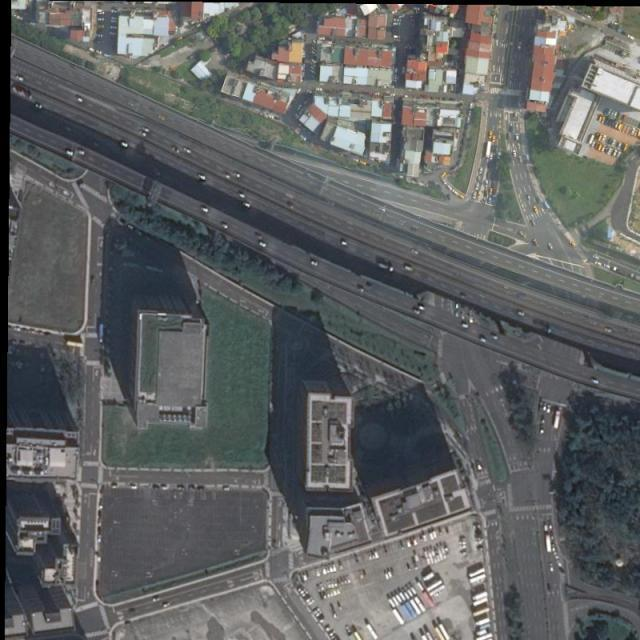vehicle: (413, 595, 426, 613), (405, 602, 418, 618), (430, 584, 446, 597), (410, 598, 422, 615), (438, 624, 450, 640), (366, 624, 378, 640), (427, 580, 443, 592), (422, 591, 434, 607), (393, 608, 404, 625), (402, 604, 413, 620), (469, 568, 486, 578), (613, 267, 630, 277), (470, 574, 486, 584), (474, 608, 490, 618), (378, 262, 394, 272), (473, 598, 489, 607), (472, 592, 487, 601), (554, 410, 561, 429), (435, 627, 445, 640), (476, 633, 493, 640), (477, 618, 491, 626), (546, 535, 552, 553), (478, 622, 491, 630), (486, 141, 492, 158), (99, 324, 104, 344), (171, 145, 181, 154), (423, 573, 434, 581), (477, 628, 487, 636), (199, 206, 209, 214), (158, 114, 168, 122), (182, 146, 192, 154), (354, 631, 362, 640), (402, 590, 410, 599), (410, 248, 419, 256), (220, 222, 229, 230), (310, 259, 319, 267), (630, 274, 640, 281), (286, 202, 294, 210), (142, 126, 150, 134), (426, 631, 433, 640), (405, 265, 414, 272), (258, 241, 267, 248), (242, 202, 251, 209), (138, 130, 147, 137), (589, 135, 595, 145), (542, 403, 548, 413), (418, 582, 425, 590), (407, 588, 414, 596), (399, 592, 406, 600), (395, 594, 402, 602), (356, 286, 364, 293), (238, 192, 246, 199), (233, 171, 241, 178), (366, 282, 374, 289), (418, 304, 426, 311), (16, 75, 24, 82), (610, 139, 617, 147), (520, 230, 527, 238), (392, 597, 398, 606), (476, 461, 482, 470), (120, 142, 129, 148), (66, 150, 75, 156), (491, 334, 498, 341), (439, 546, 446, 553), (379, 206, 386, 213), (410, 586, 416, 594), (389, 599, 395, 607), (198, 174, 206, 180), (479, 337, 487, 343), (462, 322, 470, 328), (36, 104, 44, 110), (423, 550, 429, 558), (387, 570, 393, 578), (314, 568, 320, 576), (399, 542, 405, 550), (548, 242, 554, 250), (627, 35, 635, 41), (591, 379, 600, 384), (341, 240, 348, 246), (255, 233, 262, 239), (302, 592, 309, 598), (331, 634, 338, 640), (592, 141, 598, 148), (598, 144, 604, 151), (608, 148, 614, 155), (598, 134, 604, 141), (631, 128, 637, 135), (531, 219, 537, 226), (413, 309, 421, 314), (337, 579, 342, 587), (326, 582, 331, 590), (429, 532, 434, 540), (422, 534, 427, 542), (326, 590, 331, 598), (354, 556, 359, 564), (338, 562, 343, 570), (384, 546, 389, 554), (624, 144, 629, 152), (618, 142, 623, 150), (618, 122, 623, 130), (518, 311, 526, 316), (421, 634, 427, 640), (470, 314, 474, 323), (333, 563, 337, 572), (298, 586, 304, 592), (300, 589, 306, 595), (319, 618, 325, 624), (318, 615, 324, 621), (314, 608, 320, 614), (308, 600, 314, 606), (550, 563, 554, 572), (442, 552, 447, 559), (223, 174, 230, 179), (461, 313, 466, 320), (78, 150, 85, 155), (475, 183, 480, 190), (359, 161, 366, 166), (310, 62, 317, 67), (130, 485, 137, 490), (336, 587, 341, 594), (340, 578, 345, 585), (438, 530, 443, 537), (433, 531, 438, 538), (333, 589, 338, 596), (426, 558, 431, 565), (385, 573, 390, 580), (413, 538, 418, 545), (374, 551, 379, 558), (303, 574, 308, 581), (163, 603, 170, 608), (326, 625, 331, 632), (613, 150, 618, 157), (602, 135, 607, 142), (534, 239, 539, 246), (605, 328, 612, 333), (479, 166, 483, 174), (322, 590, 326, 598), (430, 556, 434, 564), (438, 546, 442, 554), (410, 538, 414, 546), (406, 539, 410, 547), (322, 566, 326, 574), (98, 535, 102, 543), (98, 518, 102, 526), (534, 206, 538, 214), (599, 114, 603, 122), (547, 406, 551, 414), (460, 545, 466, 550), (472, 192, 477, 198), (311, 50, 317, 55), (329, 590, 334, 596), (333, 580, 338, 586), (320, 584, 325, 590), (317, 586, 322, 592), (330, 631, 335, 637), (306, 598, 312, 603), (316, 612, 322, 617), (602, 146, 607, 152), (617, 152, 622, 158), (615, 122, 620, 128), (617, 113, 622, 119), (611, 110, 616, 116), (604, 264, 610, 269), (570, 242, 576, 247), (439, 554, 443, 561), (161, 486, 168, 490), (198, 488, 205, 492), (490, 188, 494, 195), (76, 98, 83, 102), (110, 32, 117, 36), (516, 134, 520, 141), (330, 581, 334, 588), (431, 549, 435, 556), (414, 554, 418, 561), (359, 572, 363, 579), (419, 535, 423, 542), (329, 565, 333, 572), (326, 566, 330, 573), (153, 598, 160, 602), (634, 130, 638, 137), (614, 111, 618, 118), (595, 262, 602, 266), (608, 109, 613, 114), (437, 554, 440, 562), (223, 487, 229, 491), (455, 312, 459, 318), (510, 126, 514, 132), (433, 556, 437, 562), (110, 26, 116, 30), (310, 70, 316, 74), (478, 176, 482, 182), (493, 136, 497, 142), (310, 66, 316, 70), (112, 485, 118, 489), (343, 577, 347, 583), (346, 577, 350, 583), (446, 528, 450, 534), (100, 501, 103, 509), (434, 548, 438, 554), (427, 550, 431, 556), (407, 565, 411, 571), (319, 593, 323, 599), (602, 117, 606, 123), (623, 115, 627, 121), (459, 541, 466, 544), (515, 111, 518, 118), (489, 131, 492, 138), (334, 611, 337, 618), (369, 553, 372, 560), (311, 58, 316, 62), (489, 197, 492, 203), (179, 487, 185, 490), (456, 304, 459, 310), (98, 25, 104, 28), (98, 18, 104, 21), (507, 132, 510, 138), (394, 38, 400, 41), (154, 486, 160, 489), (98, 556, 101, 562), (333, 637, 339, 640), (98, 34, 103, 37), (514, 150, 516, 157), (638, 131, 640, 138), (393, 36, 399, 38)
